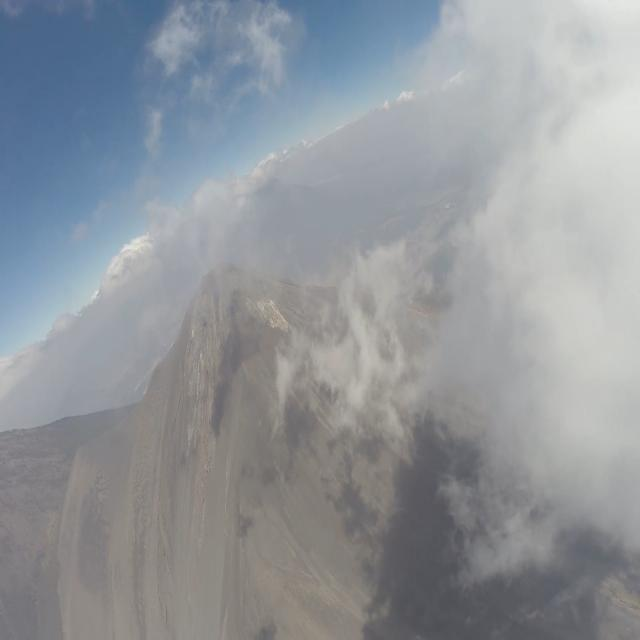Summit: (172, 255, 284, 346)
